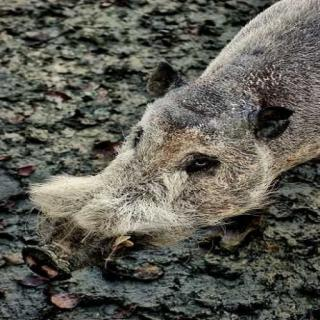Pig: (8, 0, 320, 287)
